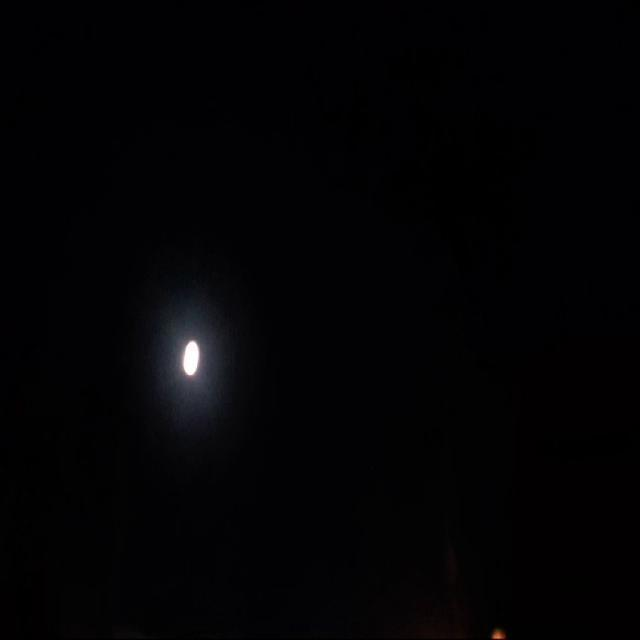moon: (174, 386, 196, 424)
